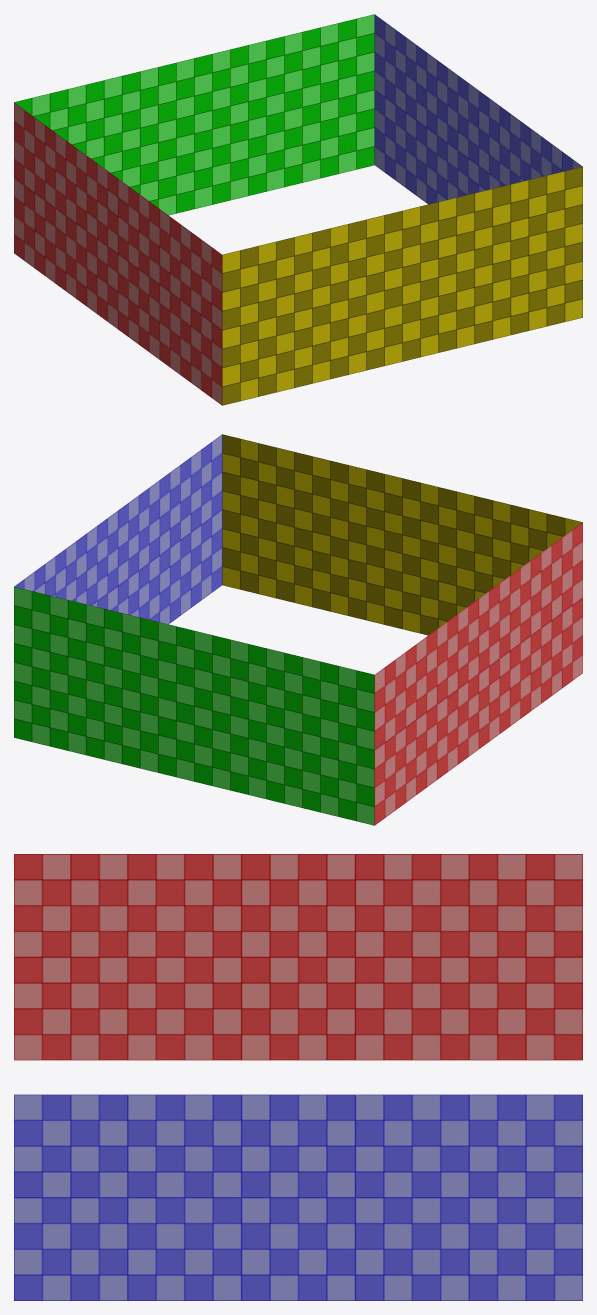
File: SM_test_room_rgbg_1000_1000_400.fbx
3 renders of one model, top to bottom at view 1: azimuth 30°, elevation 25°; view 2: azimuth 150°, elevation 25°; view 3: azimuth 270°, elevation 25°, orthographic. The views are drawn at different scales.
Visible parts, largest first — view 1: pPlane458; view 2: pPlane458; view 3: pPlane458.
Part boxes in pixels (left/top/right/bottom): pPlane458: left=14, top=14, right=582, bottom=405; pPlane458: left=14, top=434, right=582, bottom=825; pPlane458: left=14, top=854, right=582, bottom=1300.
Bounding box in the file's own units: 10 × 4 × 10.
